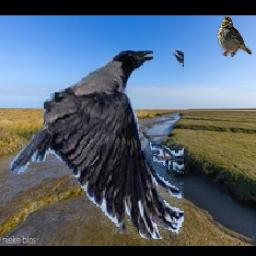Crow: (9, 48, 184, 239)
Sparrow: (217, 15, 253, 57)
